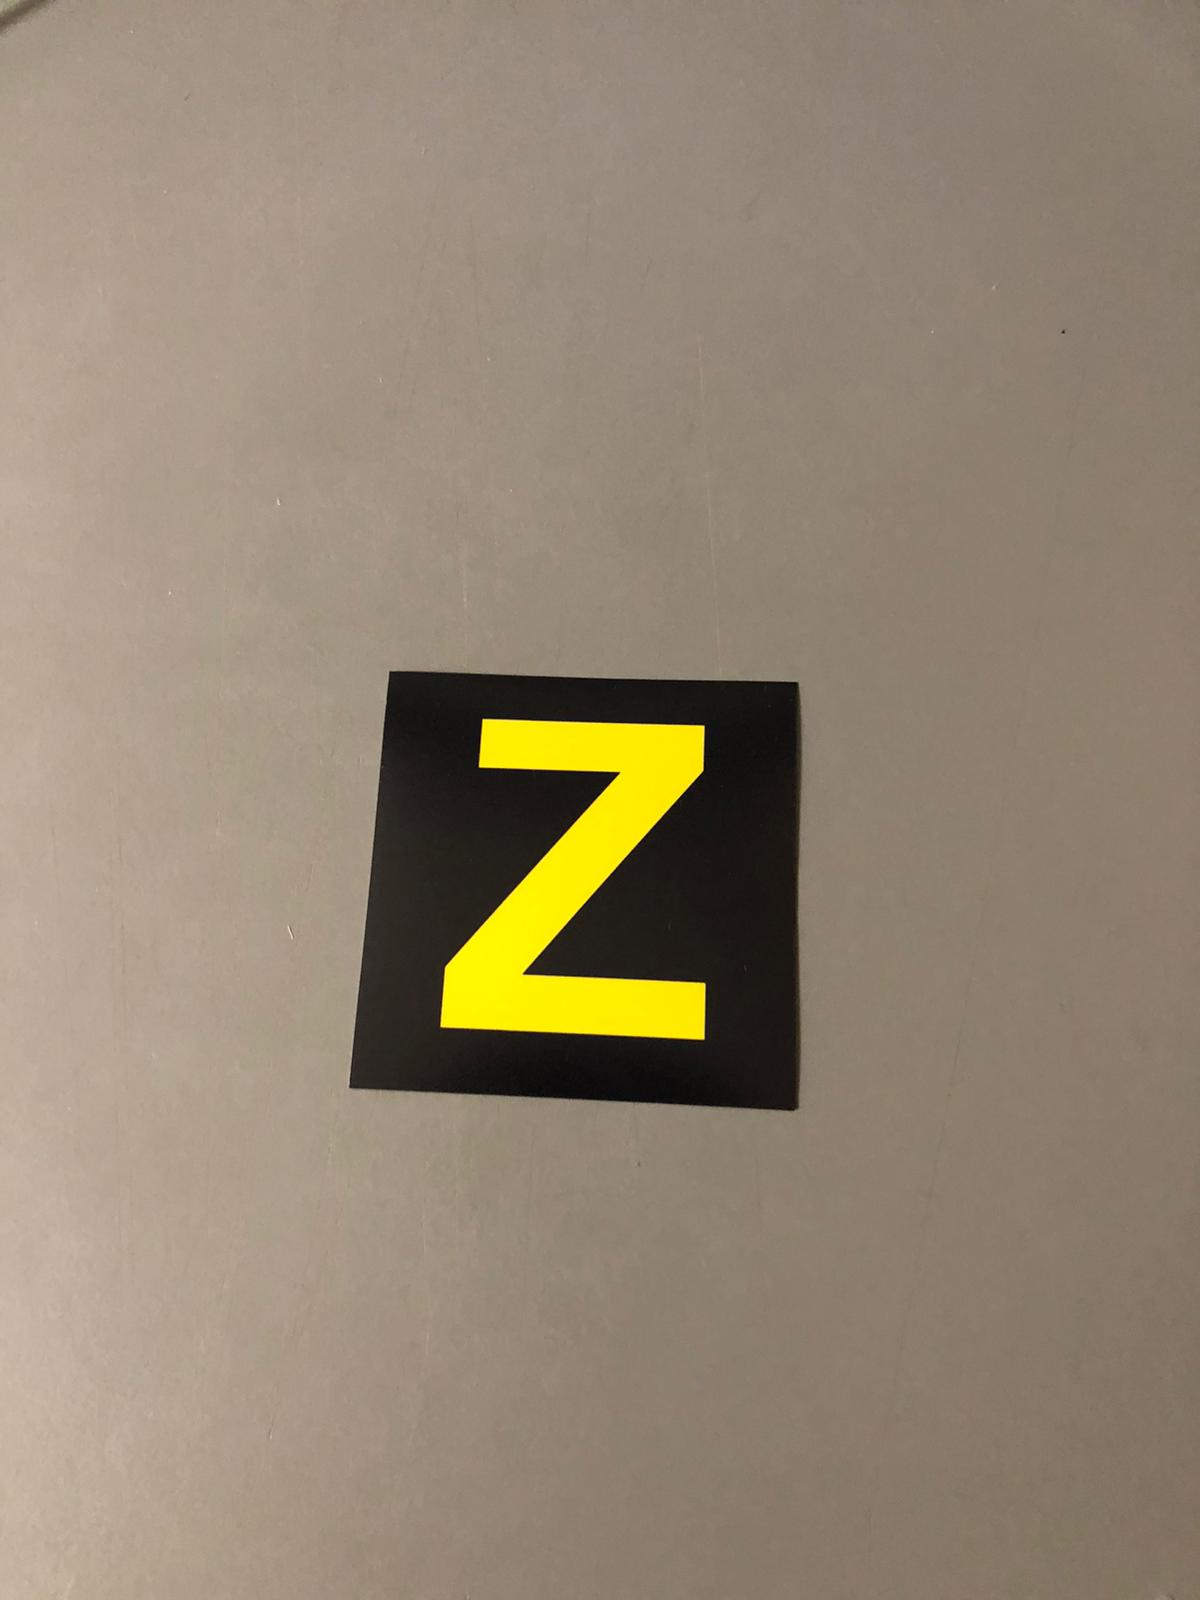Z: (386, 682, 771, 1077)
